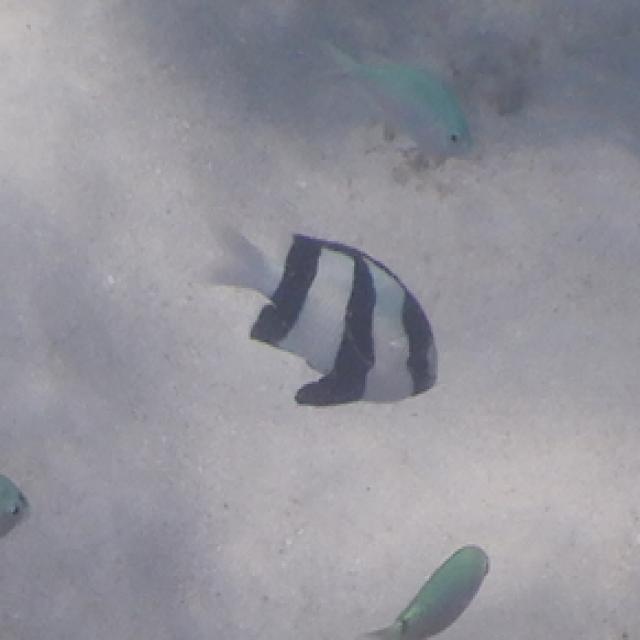Three_striped DasmselFish: (206, 217, 444, 412)
